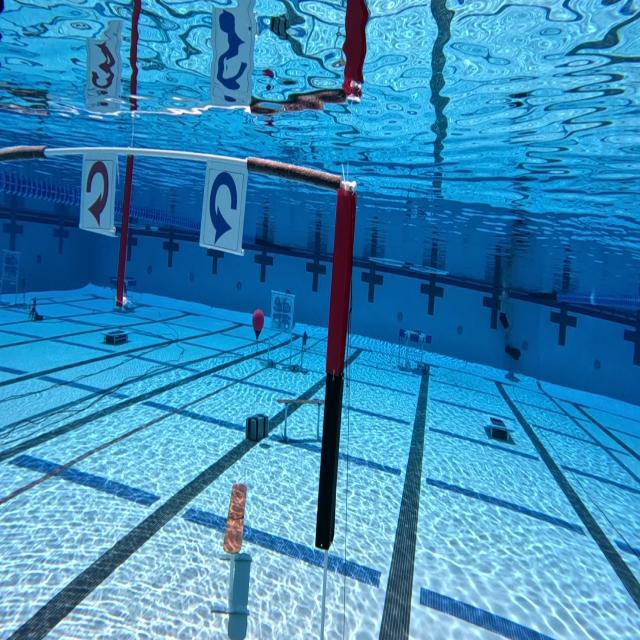blue_side: (208, 166, 240, 252)
red_side: (82, 154, 112, 228)
